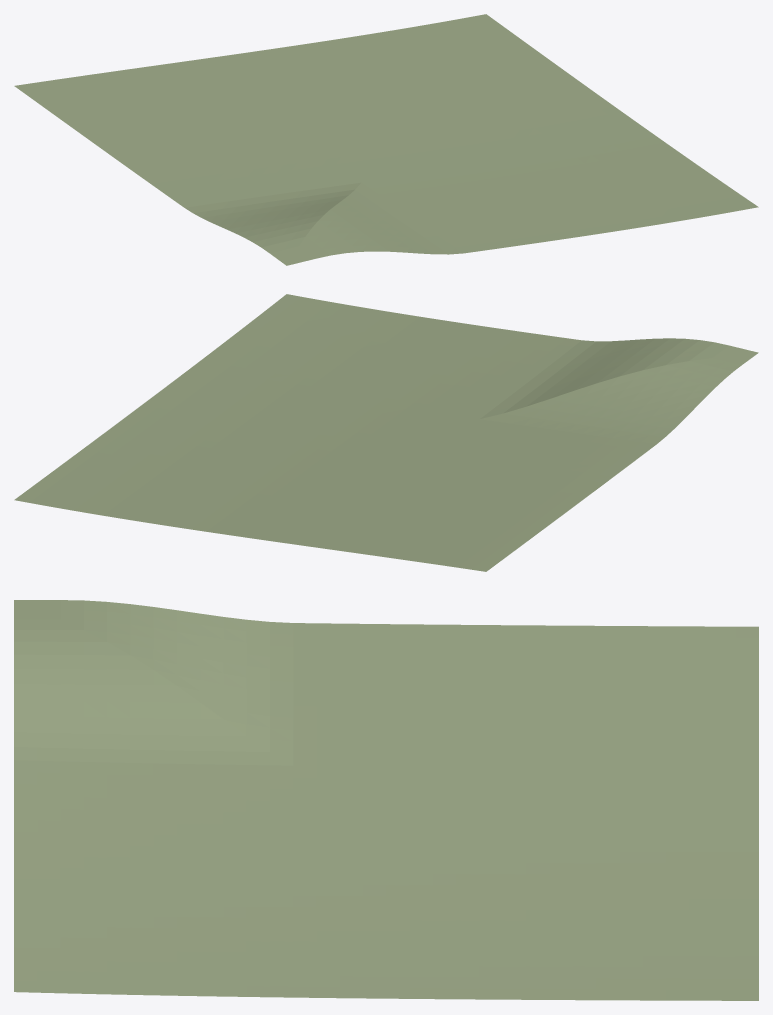
Rendered from valley-3-11.glb.
3 renders of one model, top to bottom at view 1: azimuth 30°, elevation 25°; view 2: azimuth 150°, elevation 25°; view 3: azimuth 270°, elevation 25°, orthographic. The views are drawn at different scales.
Visible parts, largest first — view 1: valley-3-11; view 2: valley-3-11; view 3: valley-3-11.
Boxes of the visible parts, x1,y1,x2,y2 form: valley-3-11: (14,14,758,265); valley-3-11: (14,294,758,571); valley-3-11: (14,600,758,1000).
Size of the model in its own units: 256 by 32.64 by 256.
